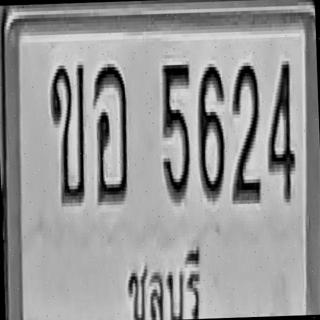A02: (49, 61, 88, 203)
A43: (91, 62, 130, 204)
N02: (228, 60, 262, 202)
N04: (264, 57, 296, 203)
N05: (159, 61, 193, 203)
N06: (195, 61, 227, 200)
P13: (118, 236, 207, 320)
